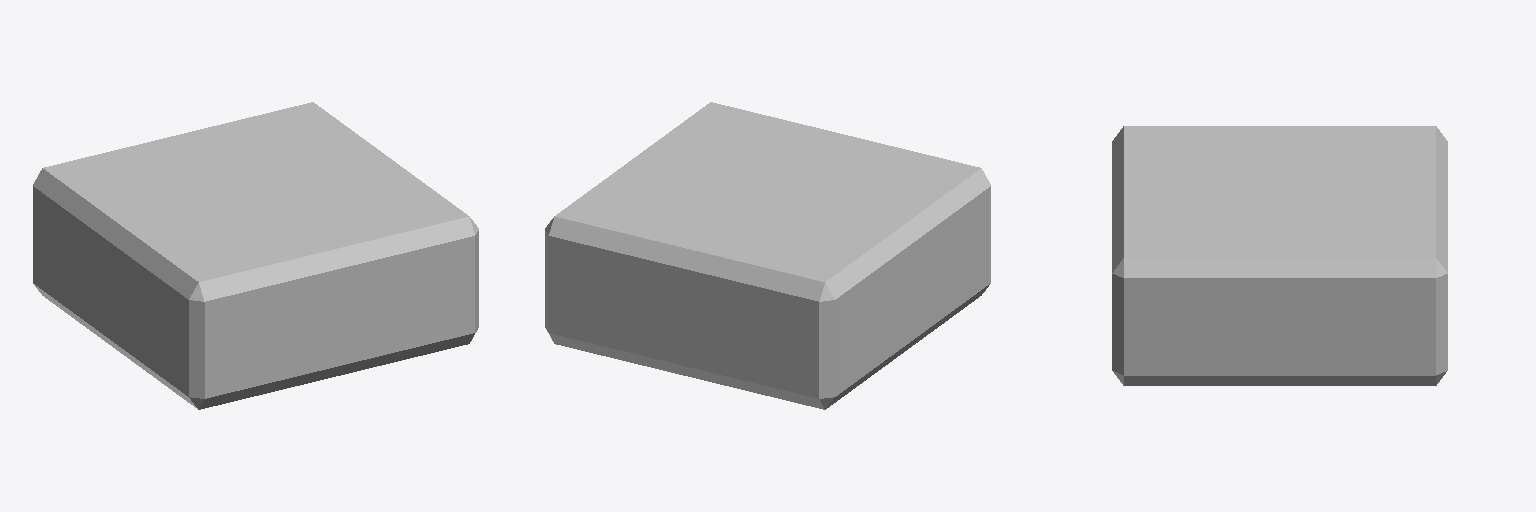
File: rifle_ammo.obj
3 views of the same model, side by side, from view 1: azimuth 30°, elevation 25°; view 2: azimuth 150°, elevation 25°; view 3: azimuth 270°, elevation 25° (orthographic).
Parts seen in each view (by area): view 1: Rifle_ammo_Cube.001; view 2: Rifle_ammo_Cube.001; view 3: Rifle_ammo_Cube.001.
Part boxes in pixels (left/top/right/bottom): Rifle_ammo_Cube.001: left=33, top=102, right=478, bottom=409; Rifle_ammo_Cube.001: left=545, top=102, right=990, bottom=409; Rifle_ammo_Cube.001: left=1112, top=126, right=1447, bottom=385.
Bounding box in the file's own units: 4 × 1.68 × 4.